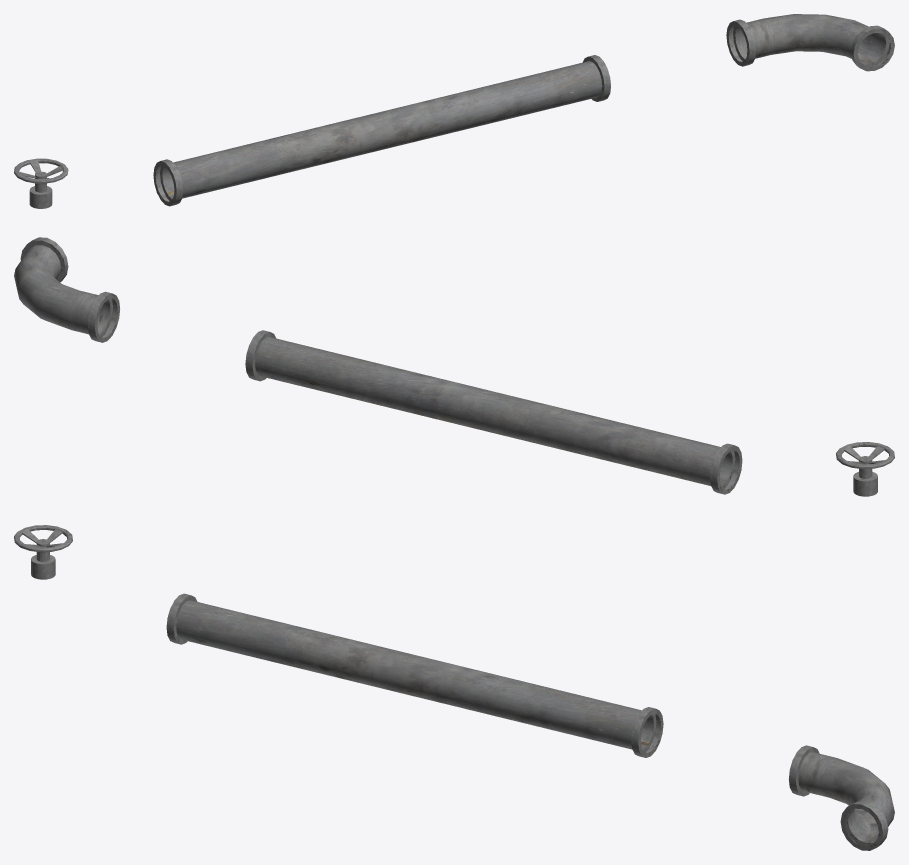
File: Pipes.fbx
3 renders of one model, top to bottom at view 1: azimuth 30°, elevation 25°; view 2: azimuth 150°, elevation 25°; view 3: azimuth 330°, elevation 25°, orthographic. The views are drawn at different scales.
Visible parts, largest first — view 1: pCylinder1, pCylinder2, polySurface1; view 2: pCylinder1, pCylinder2, polySurface1; view 3: pCylinder1, pCylinder2, polySurface1.
Part boxes in pixels (bbox=[...]): pCylinder1: bbox=[153, 55, 610, 206]; pCylinder2: bbox=[726, 14, 894, 71]; polySurface1: bbox=[14, 158, 68, 208]; pCylinder1: bbox=[245, 330, 742, 494]; pCylinder2: bbox=[14, 237, 119, 342]; polySurface1: bbox=[836, 442, 894, 496]; pCylinder1: bbox=[166, 593, 663, 757]; pCylinder2: bbox=[788, 745, 894, 850]; polySurface1: bbox=[14, 525, 72, 579].
Size of the model in its own units: 114 by 8.59 by 12.77.
